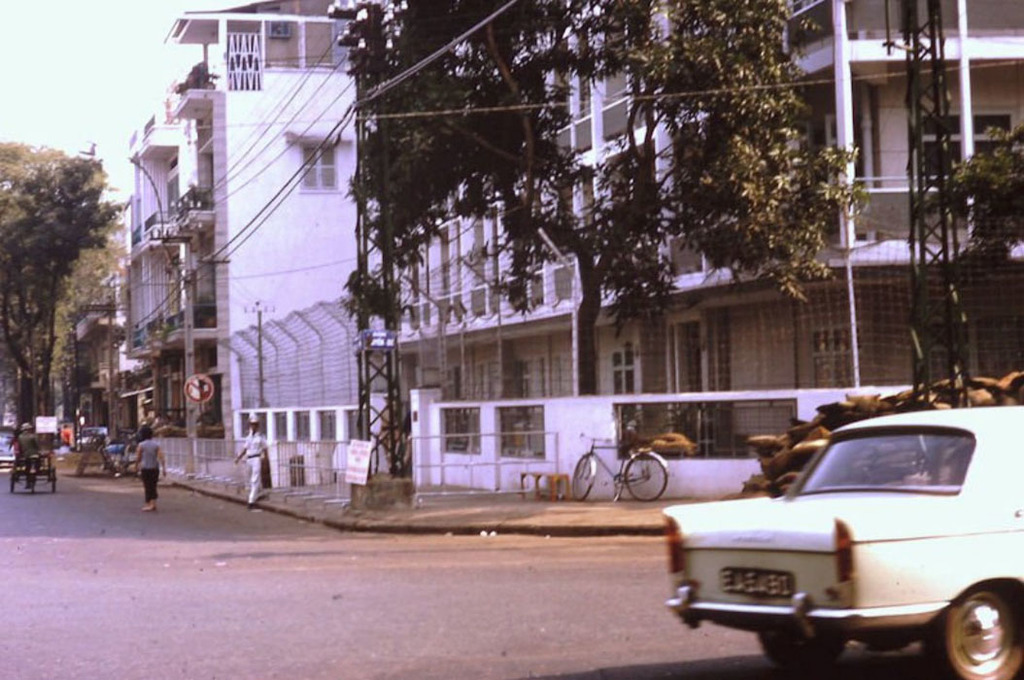Car: (676, 411, 995, 658)
